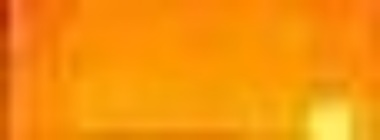Hotspot: (302, 93, 354, 140)
